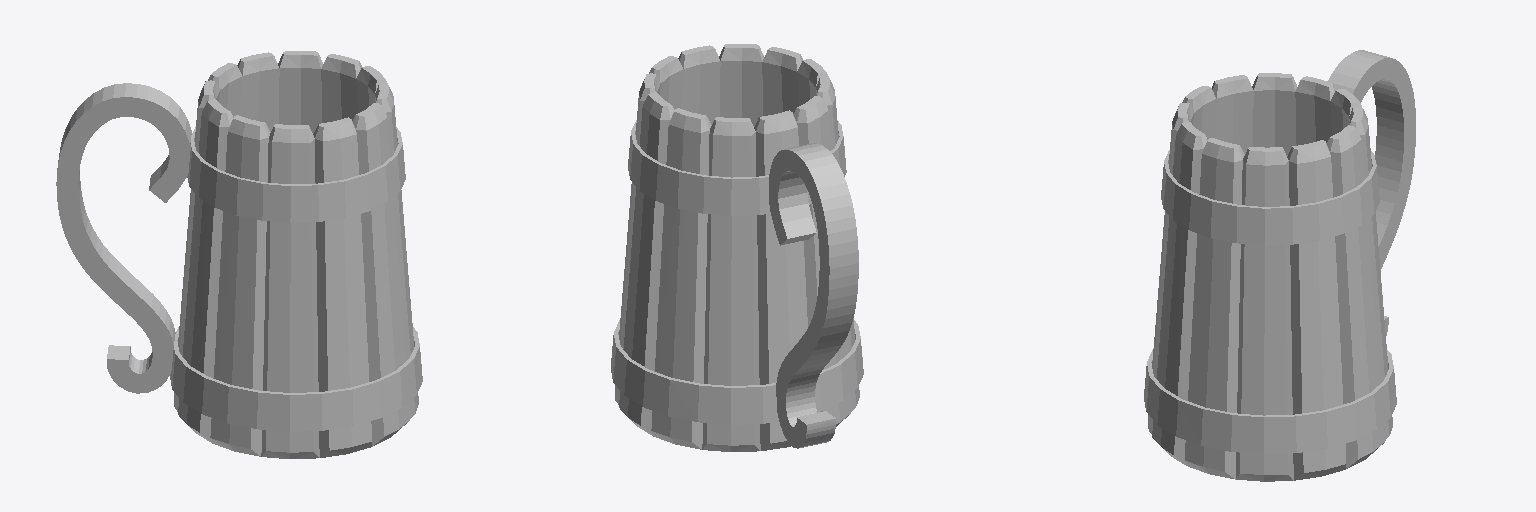
File: mug.obj
The picture shows the model from 3 angles: view 1: azimuth 30°, elevation 25°; view 2: azimuth 150°, elevation 25°; view 3: azimuth 270°, elevation 25°; orthographic projection.
Visible parts, largest first — view 1: 2_low_Cube.006, 3_low_Cube.007; view 2: 2_low_Cube.006, 3_low_Cube.007; view 3: 2_low_Cube.006, 3_low_Cube.007.
Boxes of the visible parts, <box> form: 2_low_Cube.006: <box>174,51,418,458</box>; 3_low_Cube.007: <box>170,127,422,431</box>; 2_low_Cube.006: <box>615,44,859,451</box>; 3_low_Cube.007: <box>611,120,863,424</box>; 2_low_Cube.006: <box>1148,73,1392,481</box>; 3_low_Cube.007: <box>1144,150,1396,453</box>.
Size of the model in its own units: 2.78 by 2.95 by 2.26.